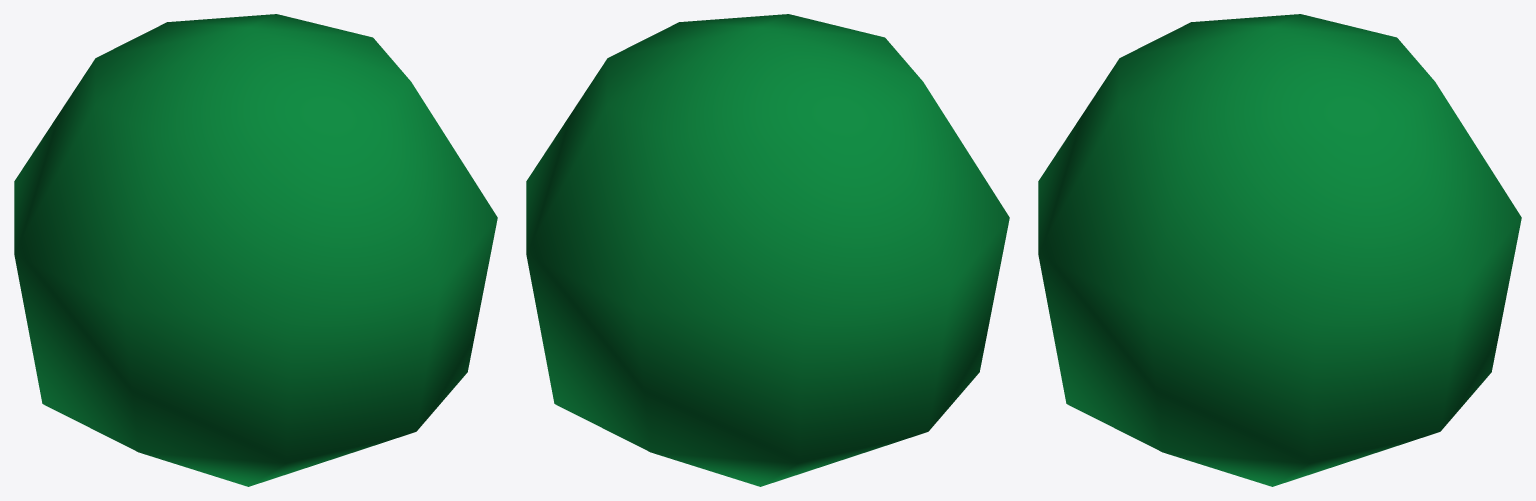
3 views of the same model, side by side, from view 1: azimuth 30°, elevation 25°; view 2: azimuth 150°, elevation 25°; view 3: azimuth 270°, elevation 25° (orthographic).
Visible parts, largest first — view 1: Sphere01; view 2: Sphere01; view 3: Sphere01.
Part boxes in pixels (x1=…): Sphere01: x1=14, y1=14, x2=497, y2=486; Sphere01: x1=526, y1=14, x2=1009, y2=486; Sphere01: x1=1038, y1=14, x2=1521, y2=486.
Bounding box in the file's own units: 3.88 × 3.82 × 4.
